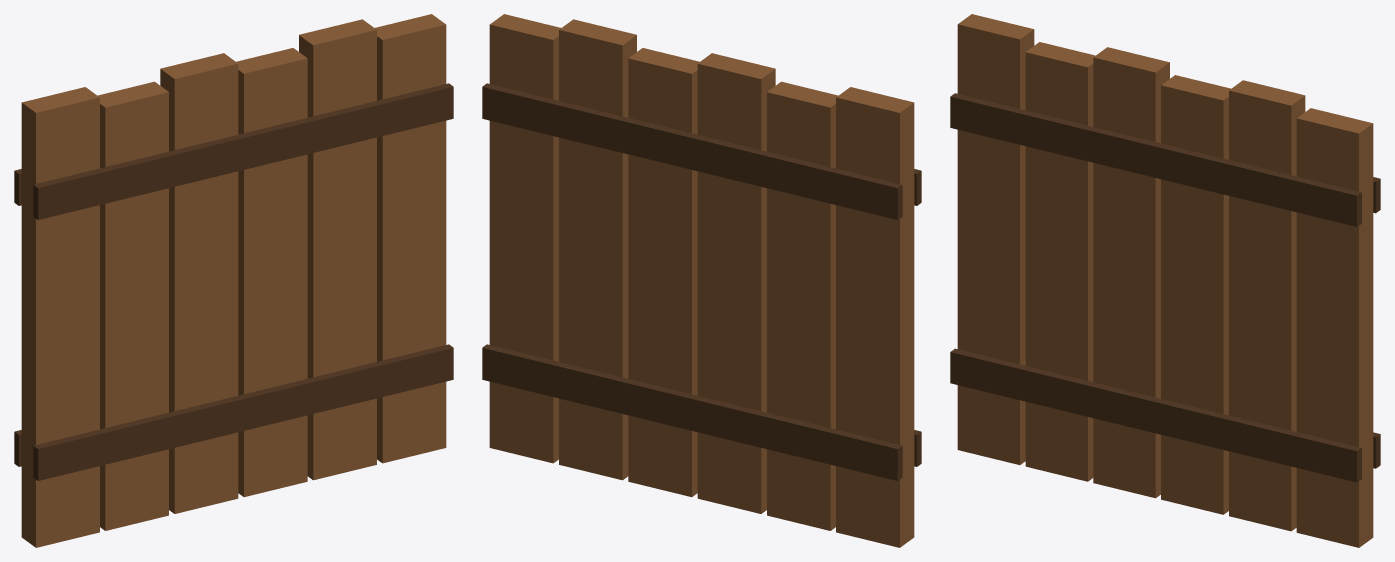
The model's file is Wall.obj.
3 renders of one model, left to right at view 1: azimuth 30°, elevation 25°; view 2: azimuth 150°, elevation 25°; view 3: azimuth 330°, elevation 25°, orthographic. The views are drawn at different scales.
Visible parts, largest first — view 1: Wall; view 2: Wall; view 3: Wall.
Boxes of the visible parts, x1,y1,x2,y2 form: Wall: [14, 14, 453, 547]; Wall: [482, 14, 921, 547]; Wall: [950, 14, 1380, 547].
Size of the model in its own units: 3 by 3 by 0.3.
